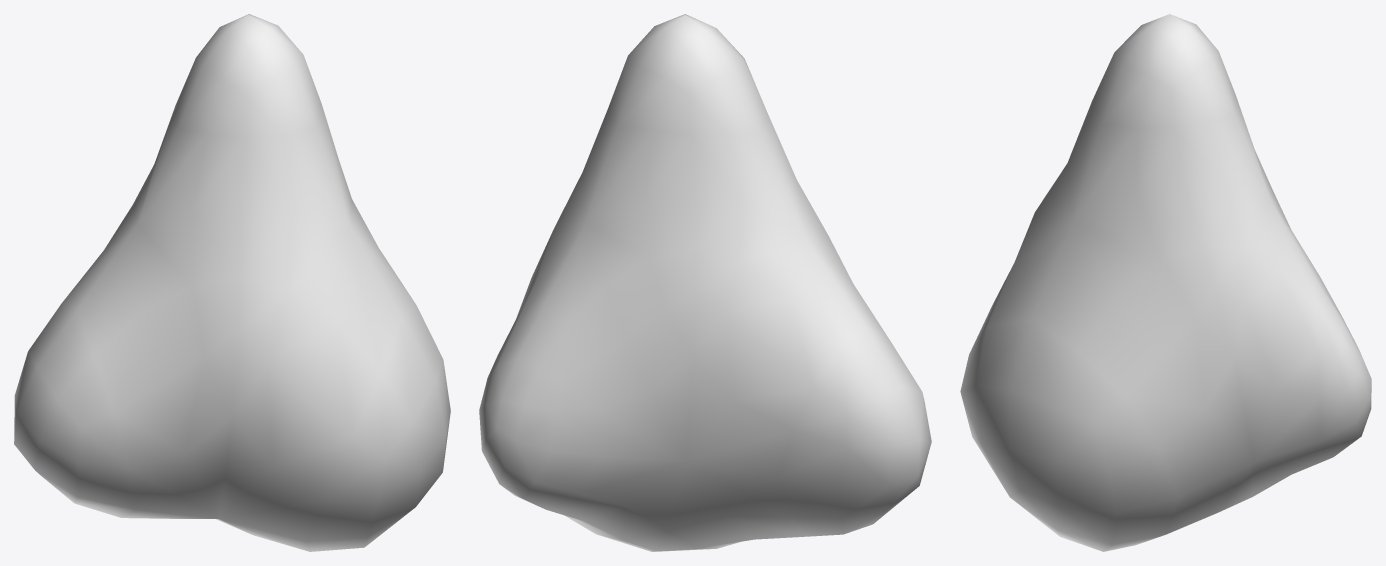
Rendered from Rock_02.fbx.
The picture shows the model from 3 angles, left to right: view 1: azimuth 30°, elevation 25°; view 2: azimuth 150°, elevation 25°; view 3: azimuth 270°, elevation 25°; orthographic projection. The views are drawn at different scales.
Parts seen in each view (by area): view 1: Rock_02; view 2: Rock_02; view 3: Rock_02.
Boxes of the visible parts, x1,y1,x2,y2 form: Rock_02: (14, 14, 450, 551); Rock_02: (479, 14, 931, 551); Rock_02: (960, 14, 1371, 551).
Size of the model in its own units: 42.67 by 54.7 by 40.53.
